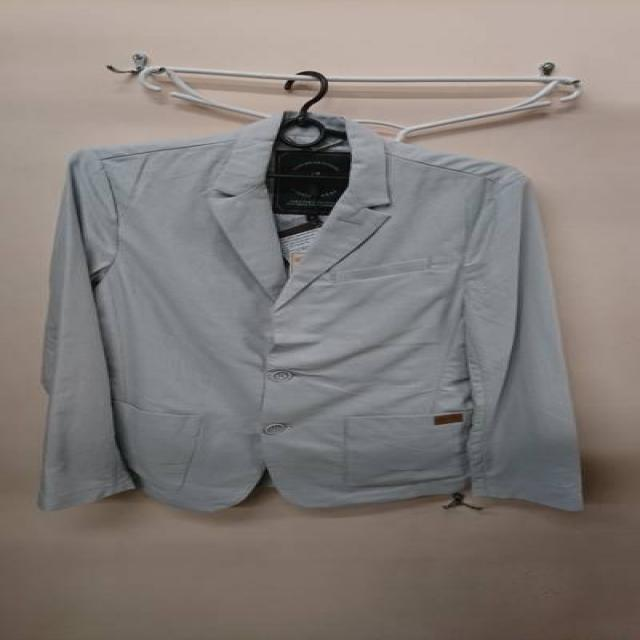Clothes -Biodegradable-: (31, 107, 586, 516)
